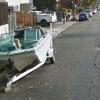Boat: (2, 18, 55, 74)
